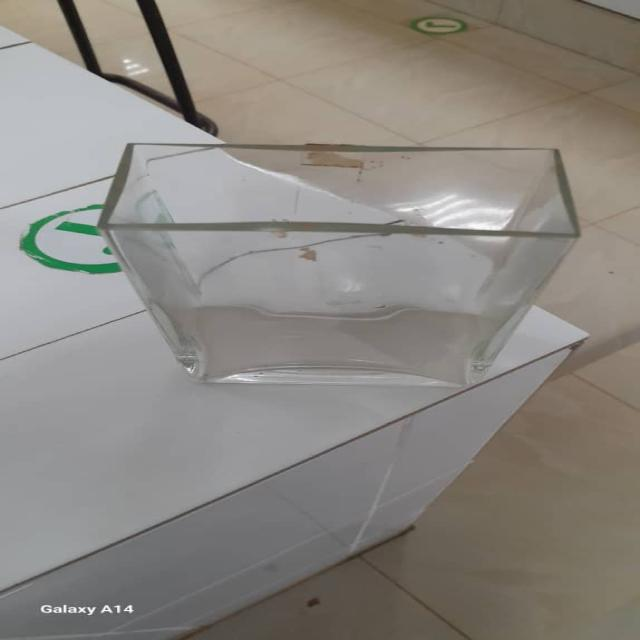TLC Tank: (89, 132, 596, 392)
